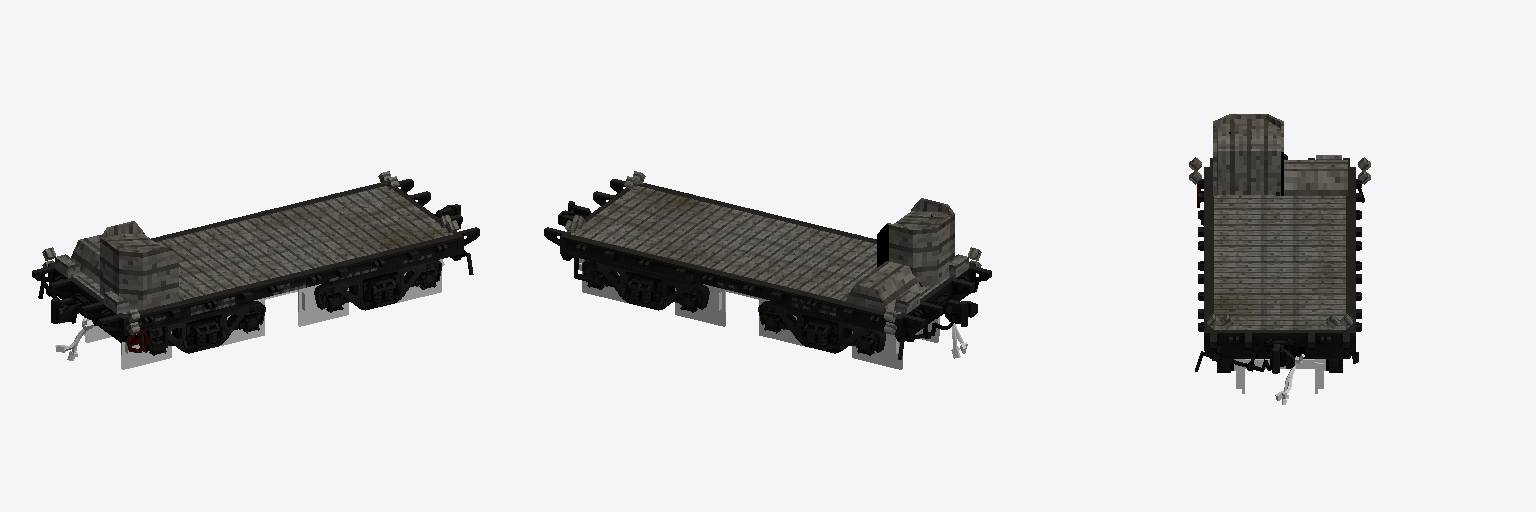
The picture shows the model from 3 angles: view 1: azimuth 30°, elevation 25°; view 2: azimuth 150°, elevation 25°; view 3: azimuth 270°, elevation 25°; orthographic projection.
Parts seen in each view (by area): view 1: FRAME_gept, FRAME_control_gept, BOGEY_FRONT_gept, BOGEY_REAR_gept, Cube, BOGEY_FRONT_WHEEL_2_gept, BOGEY_REAR_WHEEL_2_gept; view 2: FRAME_gept, FRAME_control_gept, BOGEY_REAR_gept, BOGEY_FRONT_gept, Cube, BOGEY_FRONT_WHEEL_2_gept, BOGEY_REAR_WHEEL_2_gept; view 3: FRAME_gept, FRAME_control_gept, BOGEY_FRONT_WHEEL_1_gept, Cube.
Part boxes in pixels (x1,y1,x2,y2): FRAME_gept: (32, 179, 479, 352); FRAME_control_gept: (71, 221, 178, 309); BOGEY_FRONT_gept: (314, 260, 441, 312); BOGEY_REAR_gept: (139, 301, 265, 355); Cube: (46, 171, 458, 334); BOGEY_FRONT_WHEEL_2_gept: (265, 284, 348, 326); BOGEY_REAR_WHEEL_2_gept: (84, 317, 171, 369); FRAME_gept: (544, 179, 991, 341); FRAME_control_gept: (845, 198, 954, 311); BOGEY_REAR_gept: (758, 301, 885, 355); BOGEY_FRONT_gept: (582, 260, 709, 312); Cube: (565, 171, 977, 334); BOGEY_FRONT_WHEEL_2_gept: (675, 284, 758, 326); BOGEY_REAR_WHEEL_2_gept: (852, 317, 939, 369); FRAME_gept: (1197, 154, 1361, 373); FRAME_control_gept: (1213, 114, 1347, 195); BOGEY_FRONT_WHEEL_1_gept: (1234, 359, 1325, 393); Cube: (1189, 155, 1370, 322).
Bounding box in the file's own units: 9.26 × 2.74 × 3.59.
8 materials, 3 textured.